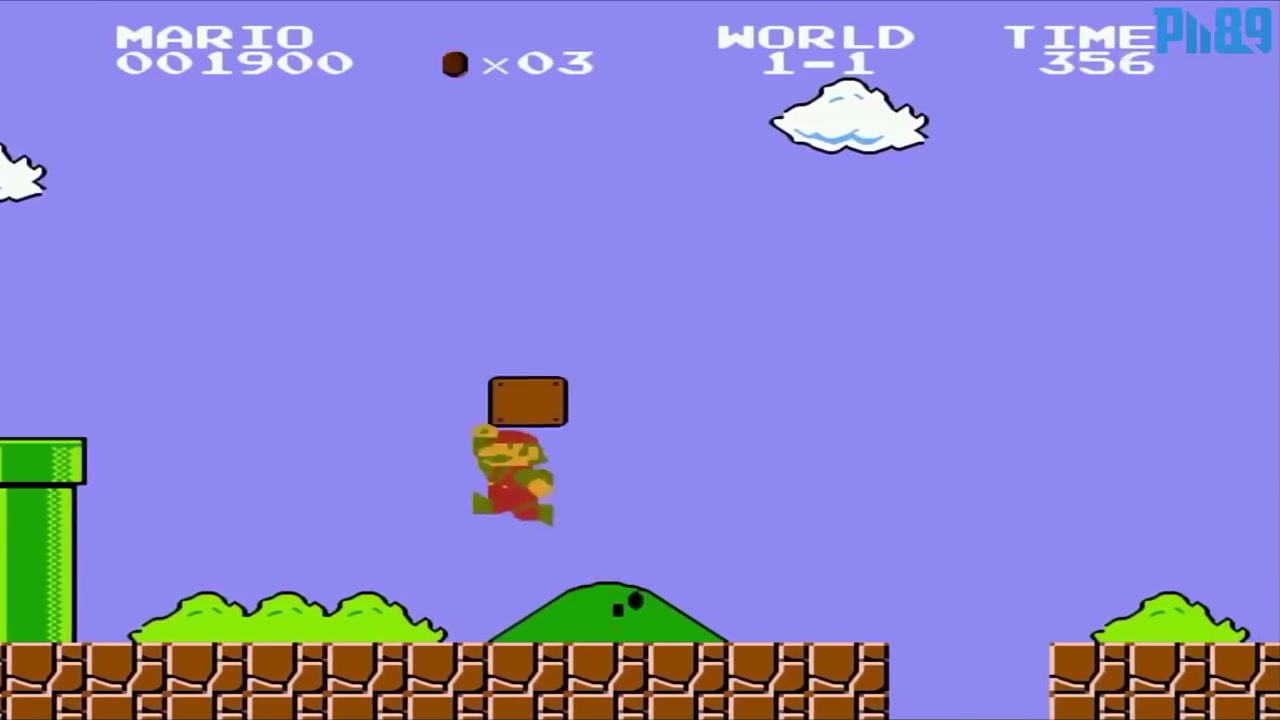mario: (459, 417, 565, 532)
